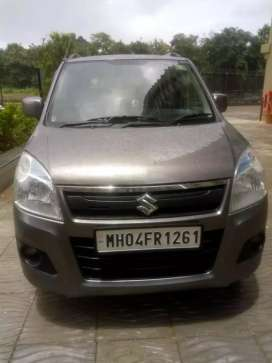license_plate: (97, 229, 201, 249)
